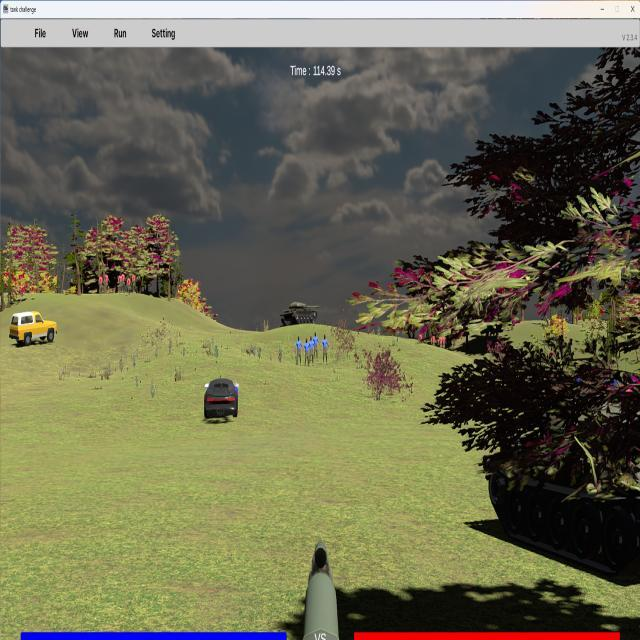Tank: (280, 301, 320, 326)
car: (9, 310, 57, 347), (203, 375, 239, 421)
